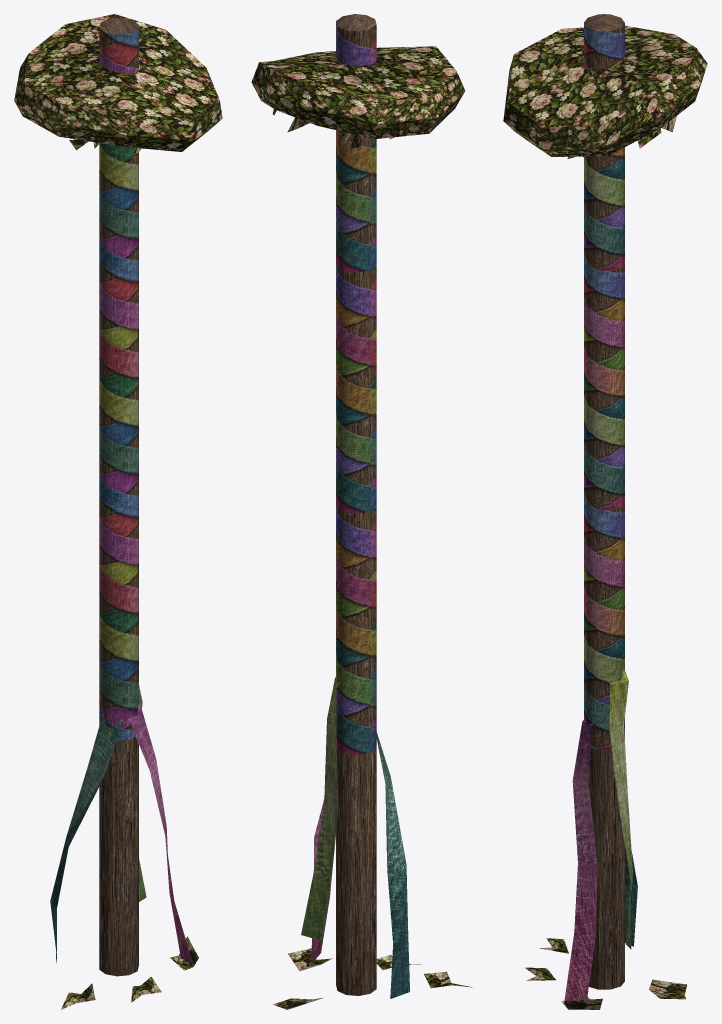
The model's file is mm9_deco_maypoleold.glb.
The picture shows the model from 3 angles, left to right: view 1: azimuth 30°, elevation 25°; view 2: azimuth 150°, elevation 25°; view 3: azimuth 270°, elevation 25°; orthographic projection. The views are drawn at different scales.
Parts seen in each view (by area): view 1: Maypoleold; view 2: Maypoleold; view 3: Maypoleold.
Part boxes in pixels (x1,y1,x2,y2): Maypoleold: [14, 14, 222, 1009]; Maypoleold: [251, 14, 473, 1009]; Maypoleold: [503, 14, 707, 1009].
Size of the model in its own units: 1.13 by 5.69 by 1.09.
Materials: 1 (1 with a texture image).
